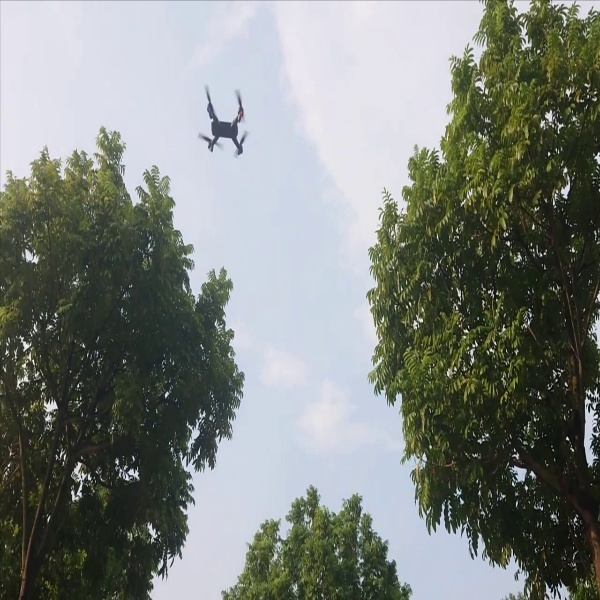drone: (175, 79, 258, 165)
